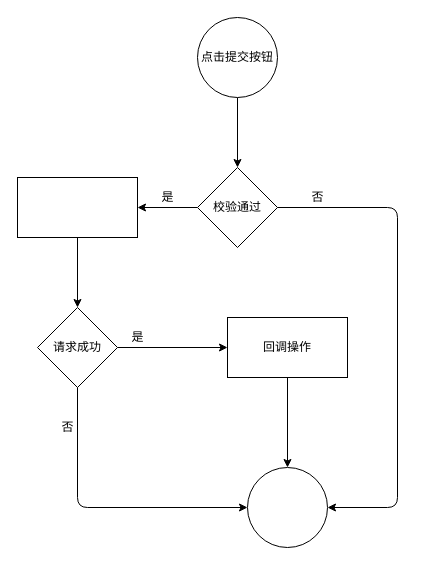
This 423x565 diagram has some shape labels left out. Each missing label, with the box of its shape:
loading并发出请求: (16, 176, 138, 238)
停止: (246, 466, 328, 548)
